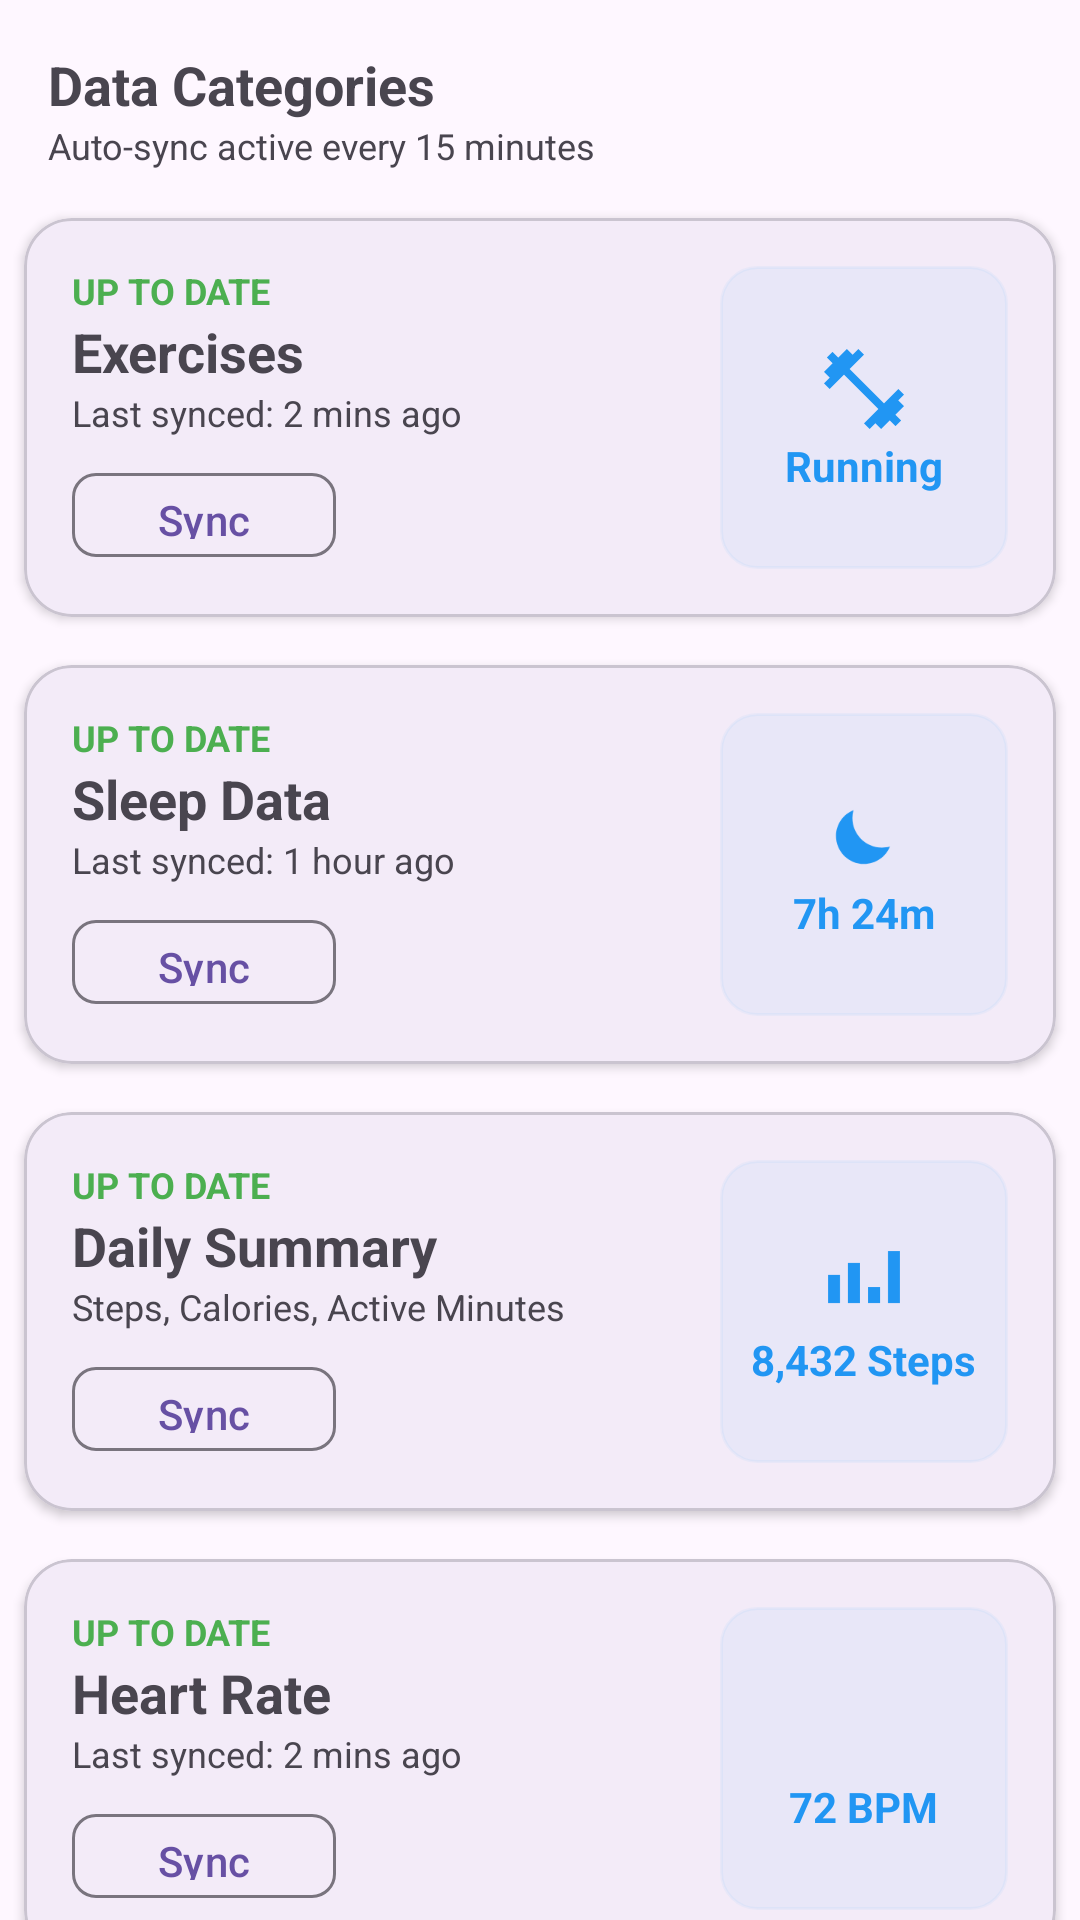

Icons on this 1080w x 1920h Android screen, each with the point to tap as (x=x, y=y):
analytics: (x=864, y=1277)
bedtime: (x=862, y=837)
fitness: (x=864, y=389)
